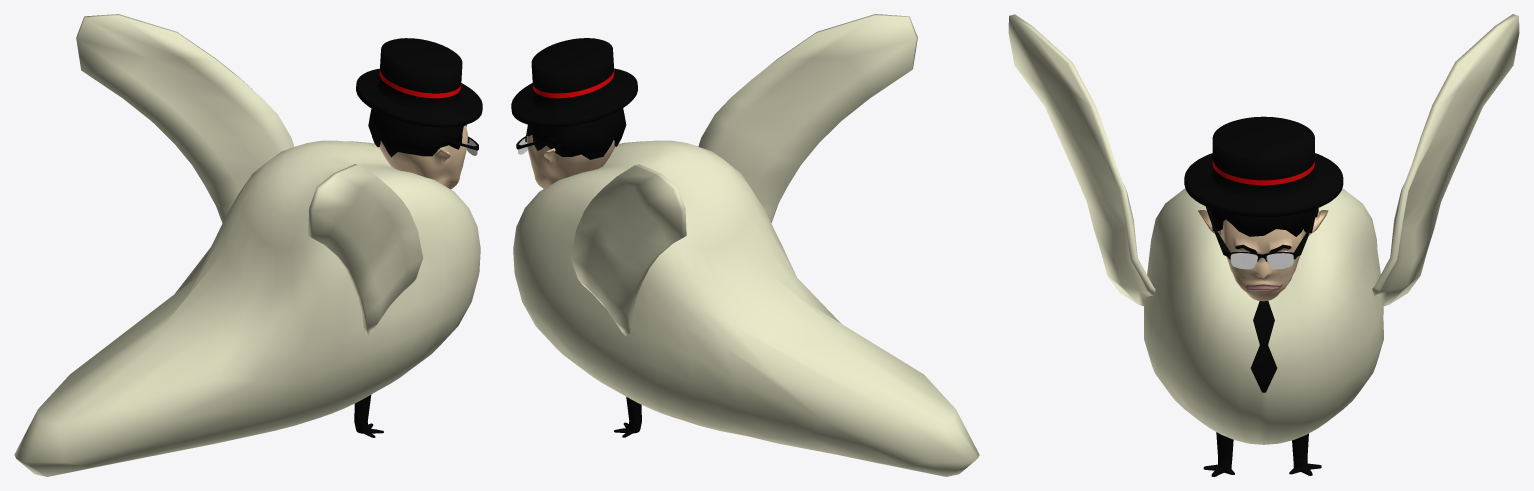
Rendered from ALovelyBird.fbx.
3 renders of one model, left to right at view 1: azimuth 30°, elevation 25°; view 2: azimuth 150°, elevation 25°; view 3: azimuth 270°, elevation 25°, orthographic. The views are drawn at different scales.
Visible parts, largest first — view 1: Body, Wings, Fedora, Hair, Head, Foot; view 2: Body, Wings, Fedora, Hair, Head, Foot; view 3: Body, Wings, Fedora, Head, Hair, Foot, Glasses.
Part boxes in pixels (x1=…): Body: x1=14, y1=140, x2=480, y2=476; Wings: x1=76, y1=14, x2=423, y2=336; Fedora: x1=356, y1=38, x2=482, y2=127; Hair: x1=368, y1=108, x2=466, y2=157; Head: x1=379, y1=125, x2=469, y2=189; Foot: x1=354, y1=395, x2=383, y2=437; Body: x1=513, y1=140, x2=979, y2=476; Wings: x1=570, y1=14, x2=917, y2=336; Fedora: x1=511, y1=38, x2=637, y2=127; Hair: x1=526, y1=108, x2=626, y2=159; Head: x1=525, y1=135, x2=615, y2=188; Foot: x1=614, y1=397, x2=641, y2=437; Body: x1=1144, y1=188, x2=1383, y2=444; Wings: x1=1008, y1=14, x2=1519, y2=306; Fedora: x1=1184, y1=116, x2=1343, y2=217; Head: x1=1198, y1=210, x2=1328, y2=301; Hair: x1=1208, y1=196, x2=1318, y2=236; Foot: x1=1203, y1=432, x2=1321, y2=476; Glasses: x1=1205, y1=206, x2=1318, y2=269.
Bounding box in the file's own units: 311 × 231 × 281.
